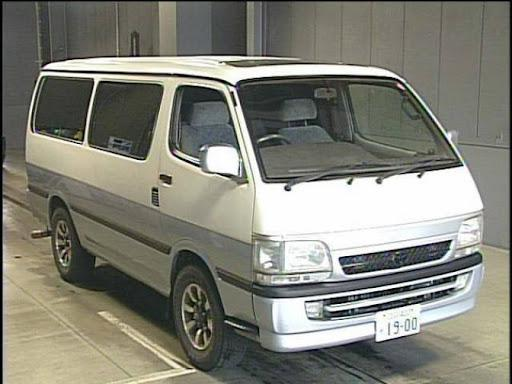Van: (23, 53, 493, 361)
